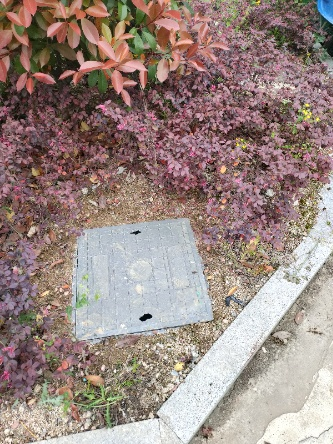good: (74, 217, 215, 339)
